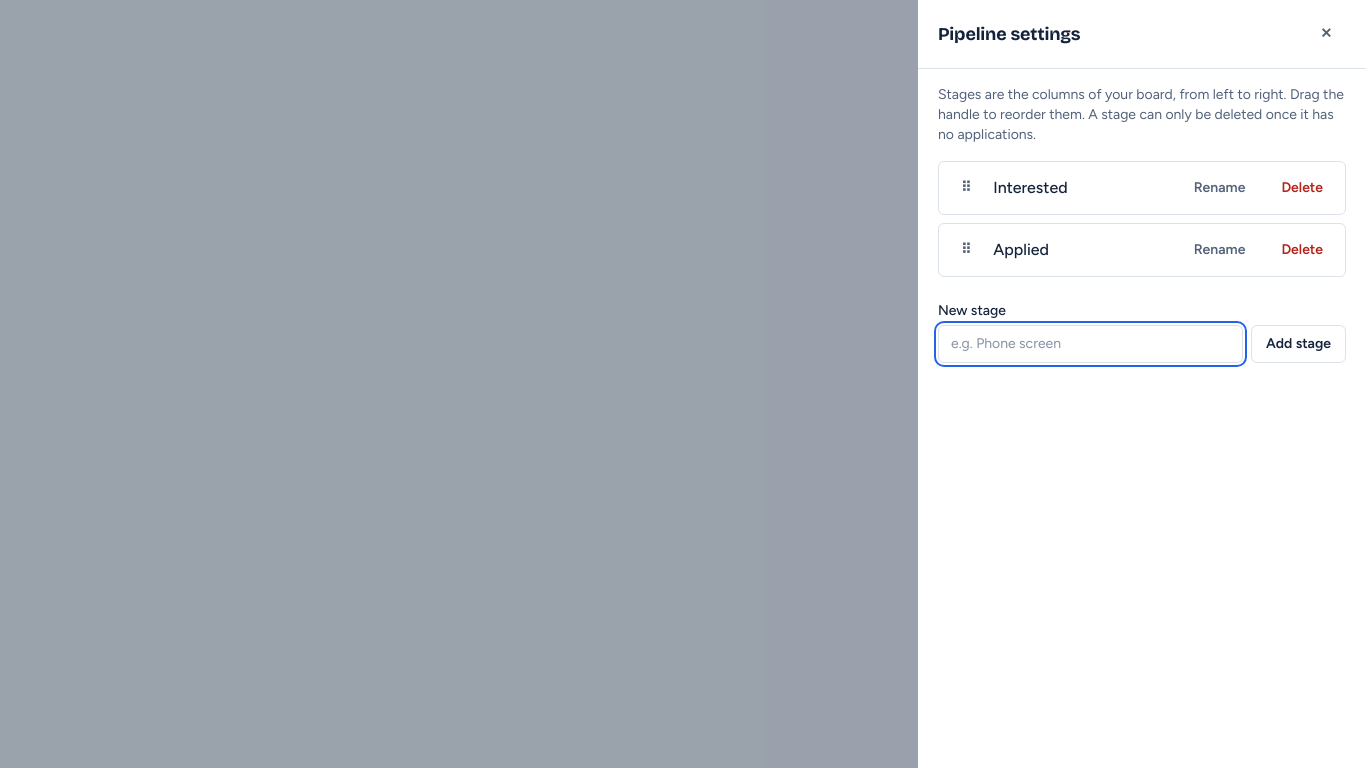
Test: deleting a stage that still has applications shows the blocked-delete message
The image size is (1366, 768).
Click the button with aria-label "Delete Applied": (1302, 250) [1267, 232, 1337, 268]
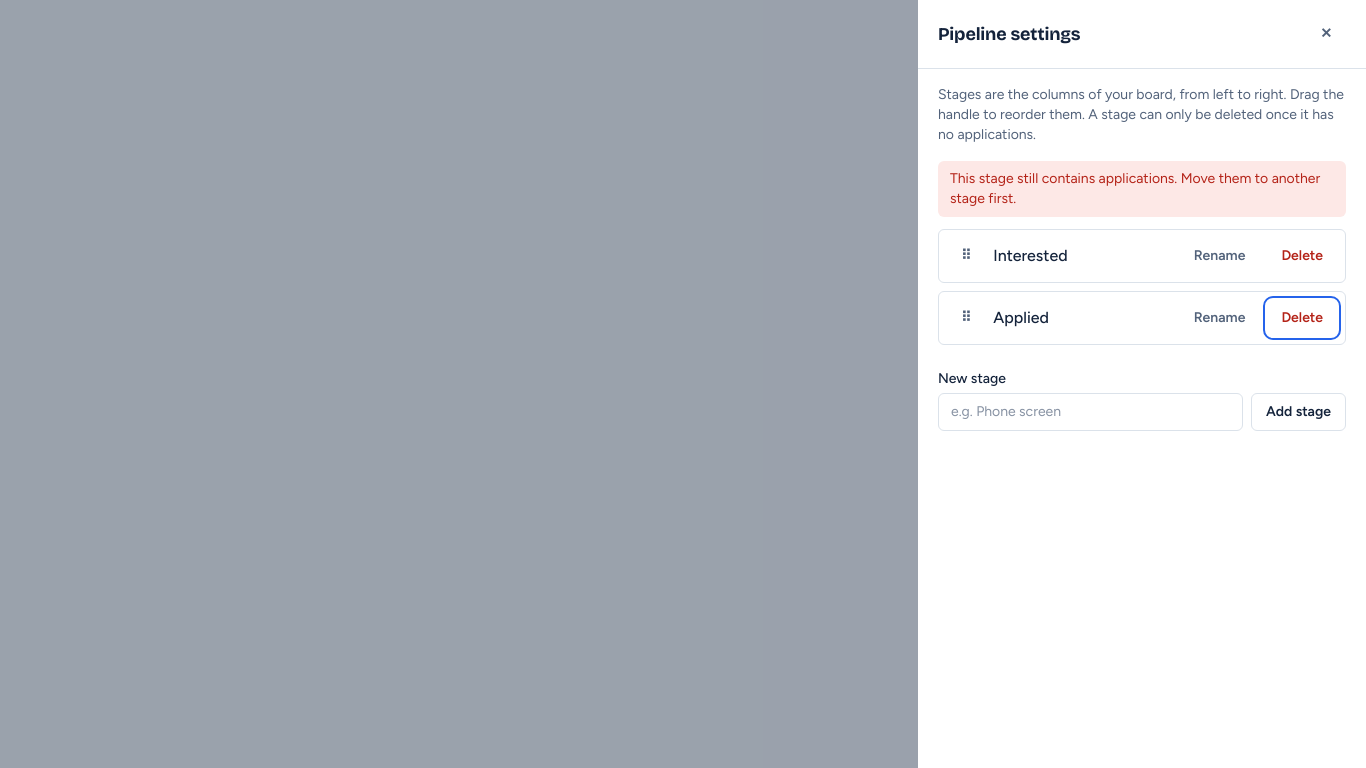
Expected: the text "Applied" is shown, [993, 308, 1049, 327]
Expected: the message shows "Move them to another stage first.", [950, 170, 1320, 207]
